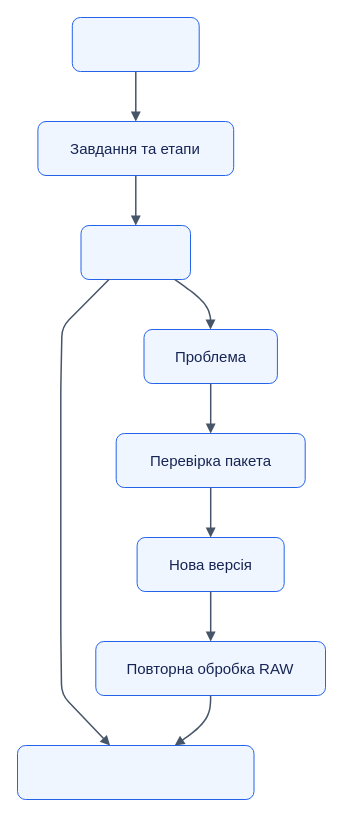
The diagram is 343 pixels wide and 817 high, and some of its shapes have lost their labels. Here are the shapes that lost their labels. From the top down, the centre of each, then its label:
pixel 135 44: Джерело
pixel 135 252: Запуск
pixel 135 772: Матеріали й результати
